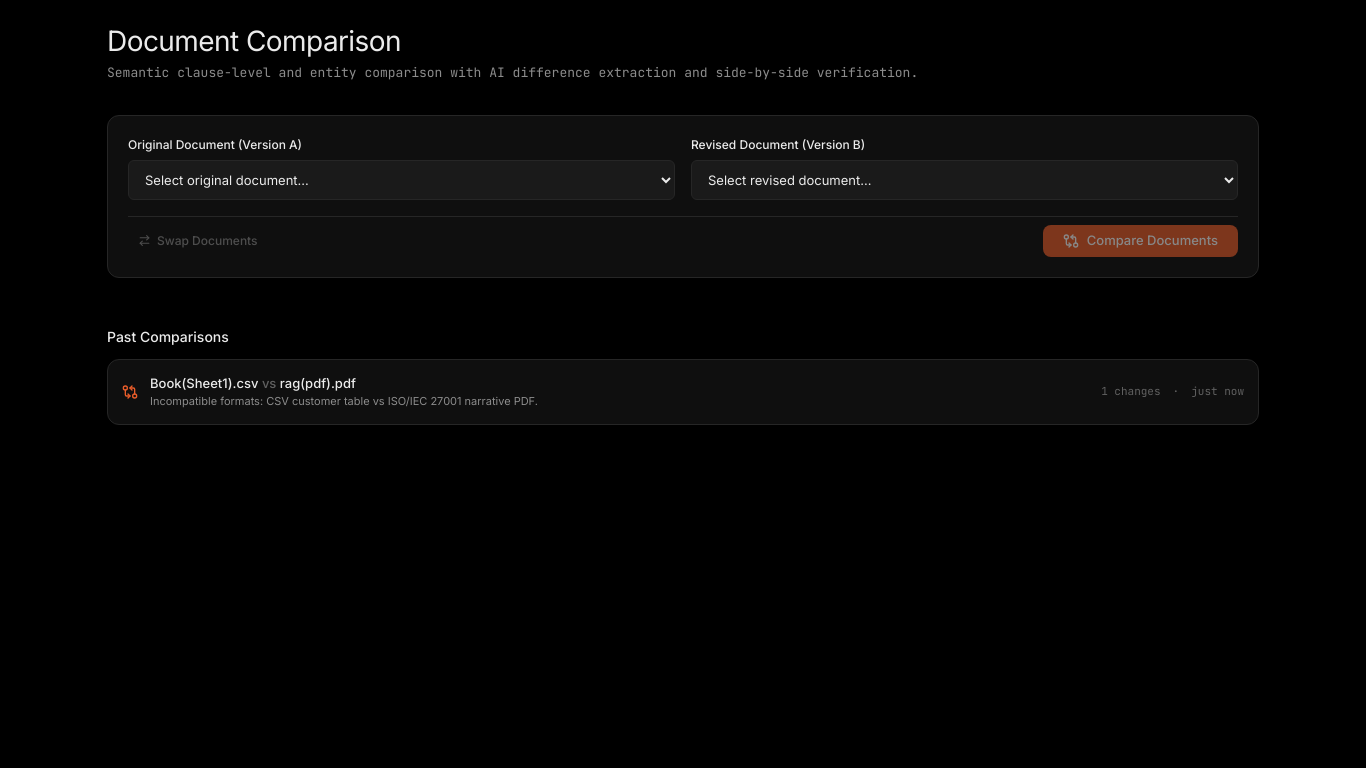
it: ComparePage Component Regression Tests › synchronizes dropdowns when a past comparison is clicked from history
The width and height of the screenshot is (1366, 768).
Check: the heading "Past Comparisons" is shown, box [107,328,229,344]
# Click on past comparison in history (CSV vs PDF)
Click the text "Incompatible formats: CSV customer table" at point(344, 401), box [150,393,538,410]
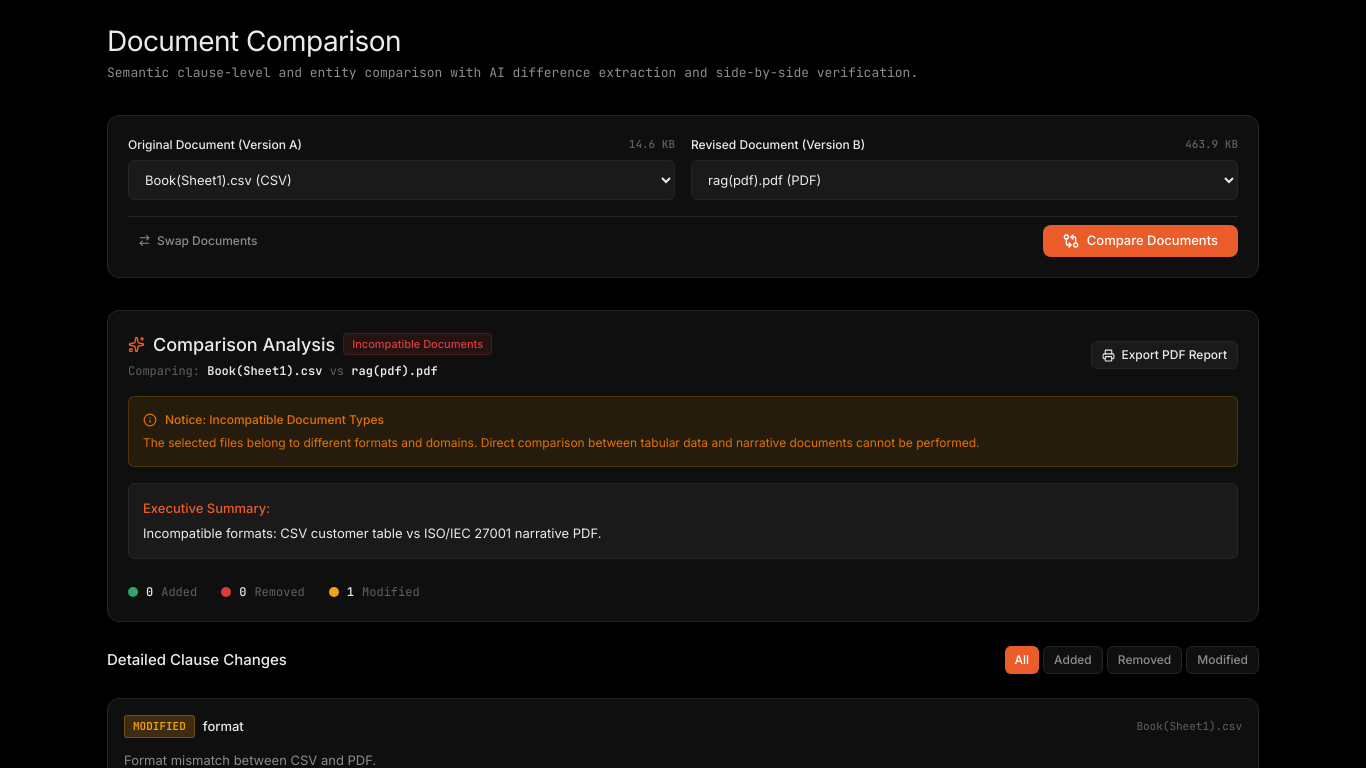
Check: the dropdown below "Original Document (Version A)" shows "Book(Sheet1).csv (CSV)", box [128,160,675,200]
Check: the dropdown below "Revised Document (Version B)" shows "rag(pdf).pdf (PDF)", box [691,160,1238,200]
Check: the text "Incompatible formats: CSV customer table" is shown, box [143,525,601,541]
